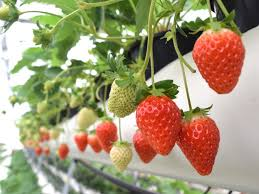ripe: (189, 21, 247, 94), (175, 109, 224, 177), (135, 91, 184, 157), (132, 126, 156, 164), (94, 120, 120, 153), (86, 131, 101, 159), (73, 129, 89, 153), (58, 143, 68, 160)
unripe: (107, 71, 148, 117), (109, 142, 134, 173), (74, 107, 98, 130), (69, 91, 84, 108)
